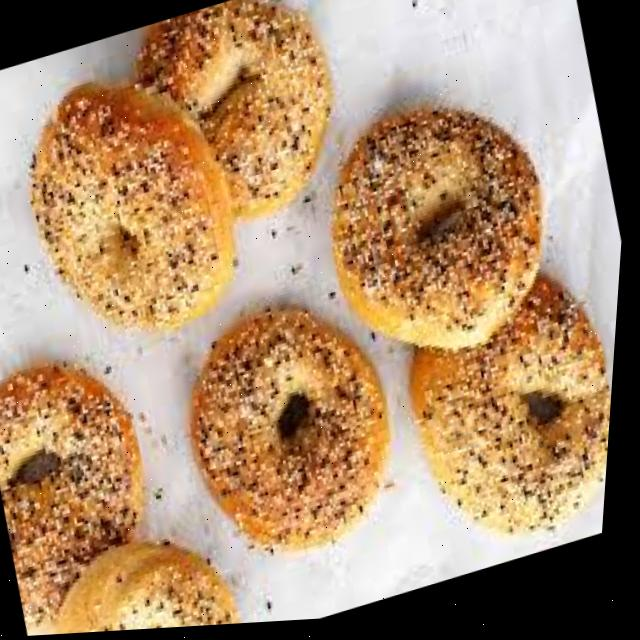Bagel: (417, 283, 617, 539), (32, 83, 237, 332), (334, 119, 540, 354), (196, 313, 394, 552), (135, 0, 330, 219), (0, 365, 150, 627), (68, 543, 245, 635)
